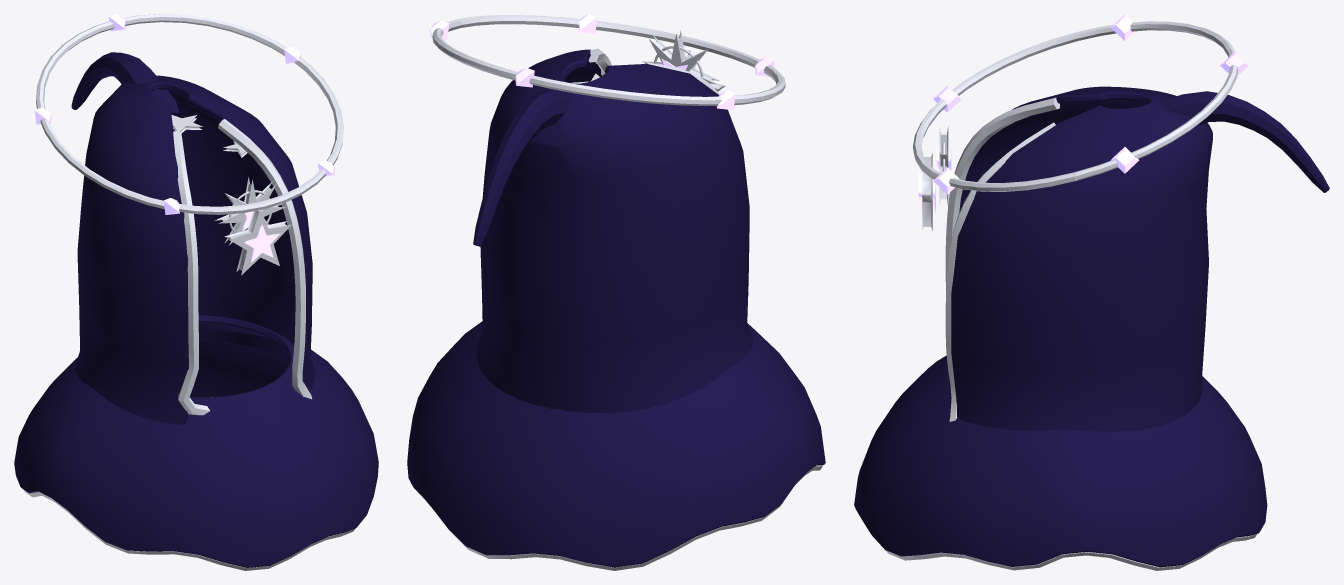
Rendered from asc_astral_magister_helm.glb.
The picture shows the model from 3 angles, left to right: view 1: azimuth 30°, elevation 25°; view 2: azimuth 150°, elevation 25°; view 3: azimuth 270°, elevation 25°; orthographic projection. The views are drawn at different scales.
Visible parts, largest first — view 1: asc_astral_magister_helm; view 2: asc_astral_magister_helm; view 3: asc_astral_magister_helm.
Boxes of the visible parts, <box> form: asc_astral_magister_helm: <box>14,14,378,570</box>; asc_astral_magister_helm: <box>407,14,825,570</box>; asc_astral_magister_helm: <box>854,14,1329,570</box>.
Size of the model in its own units: 0.6031 by 0.7729 by 0.721.
